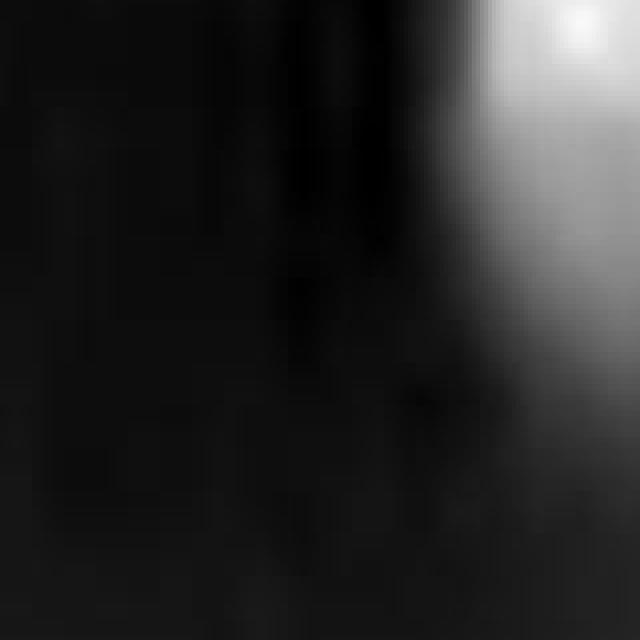person: (437, 1, 640, 502)
